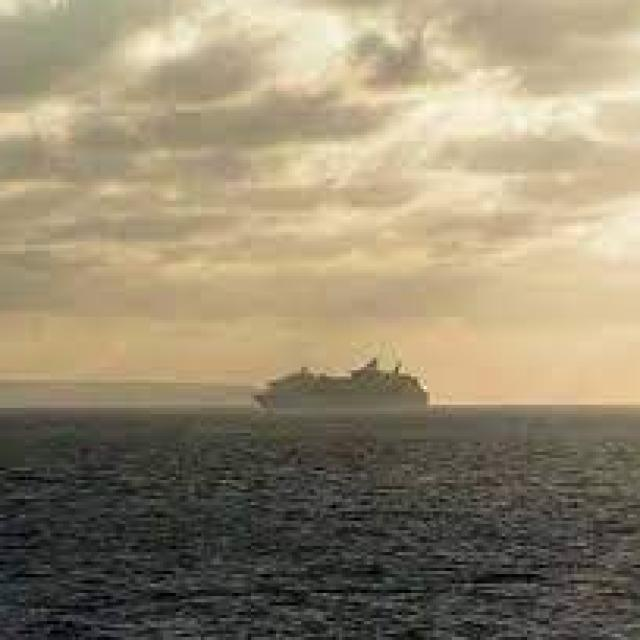cargoship: (238, 346, 445, 409)
